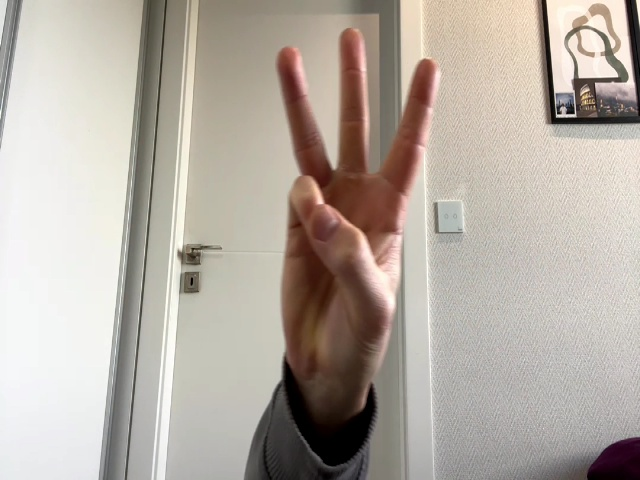W: (276, 28, 440, 380)
